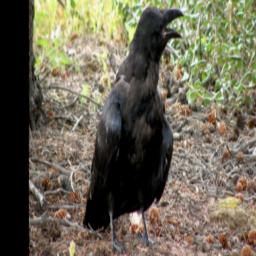Crow: (81, 4, 185, 256)
